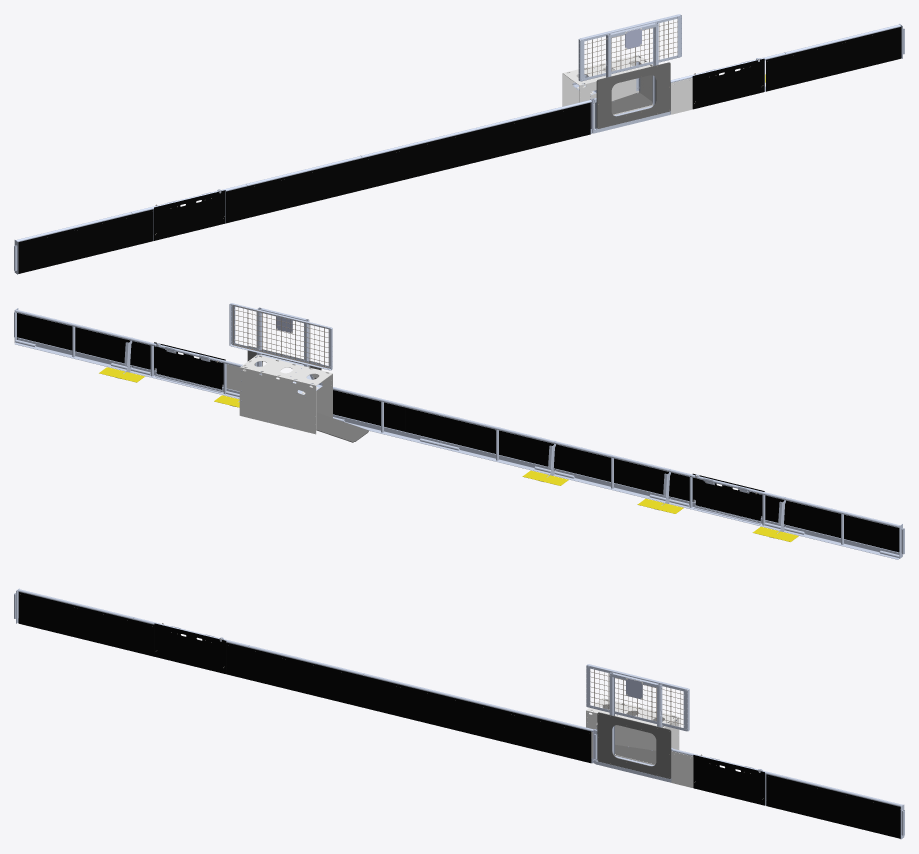
The picture shows the model from 3 angles, top to bottom: view 1: azimuth 30°, elevation 25°; view 2: azimuth 150°, elevation 25°; view 3: azimuth 330°, elevation 25°; orthographic projection.
Visible parts, largest first — view 1: Solid1.004, Solid1.005, Solid1.001, Solid1.003, Solid1.007, Solid1.009, Solid1.030, Solid1.263, Solid1.008, Solid1.006, Solid1, Solid1.200 (+3 smaller); view 2: Solid1.200, Solid1.004, Solid1.005, Solid1.030, Solid1.009, Solid1.001, Solid1.007, Solid1.003, Solid1, Solid1.008, Solid1.006, Solid1.199 (+7 smaller); view 3: Solid1.005, Solid1.004, Solid1.007, Solid1.003, Solid1.001, Solid1.030, Solid1.009, Solid1.263, Solid1.008, Solid1.006, Solid1, Solid1.200 (+3 smaller).
Part boxes in pixels (x1,y1,x2,y2): Solid1.004: (398,121,512,181); Solid1.005: (283,149,397,209); Solid1.001: (766,41,844,91); Solid1.003: (512,102,590,153); Solid1.007: (75,209,153,259); Solid1.009: (692,58,764,109); Solid1.030: (154,190,225,240); Solid1.263: (596,62,670,128); Solid1.008: (18,228,75,273); Solid1.006: (226,177,283,223); Solid1: (844,27,901,72); Solid1.200: (562,56,638,106); Solid1.200: (240,367,316,434); Solid1.004: (406,408,520,459); Solid1.005: (520,435,634,487); Solid1.030: (692,473,764,520); Solid1.009: (154,342,225,389); Solid1.001: (75,327,150,369); Solid1.007: (765,495,840,537); Solid1.003: (333,390,405,431); Solid1: (17,313,72,350); Solid1.008: (844,514,899,552); Solid1.006: (635,463,689,501); Solid1.199: (240,355,332,385); Solid1.005: (283,656,398,715); Solid1.004: (398,684,512,744); Solid1.007: (76,606,154,656); Solid1.003: (513,712,591,763); Solid1.001: (766,774,844,824); Solid1.030: (154,623,226,673); Solid1.009: (693,755,764,805); Solid1.263: (597,712,671,778); Solid1.008: (18,592,75,637); Solid1.006: (226,642,283,688); Solid1: (844,793,900,838); Solid1.200: (602,699,674,750).
Size of the model in its own units: 1422 by 144 by 58.26.
